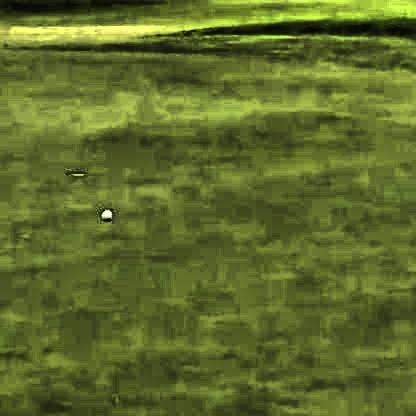golfball: (99, 206, 111, 220)
